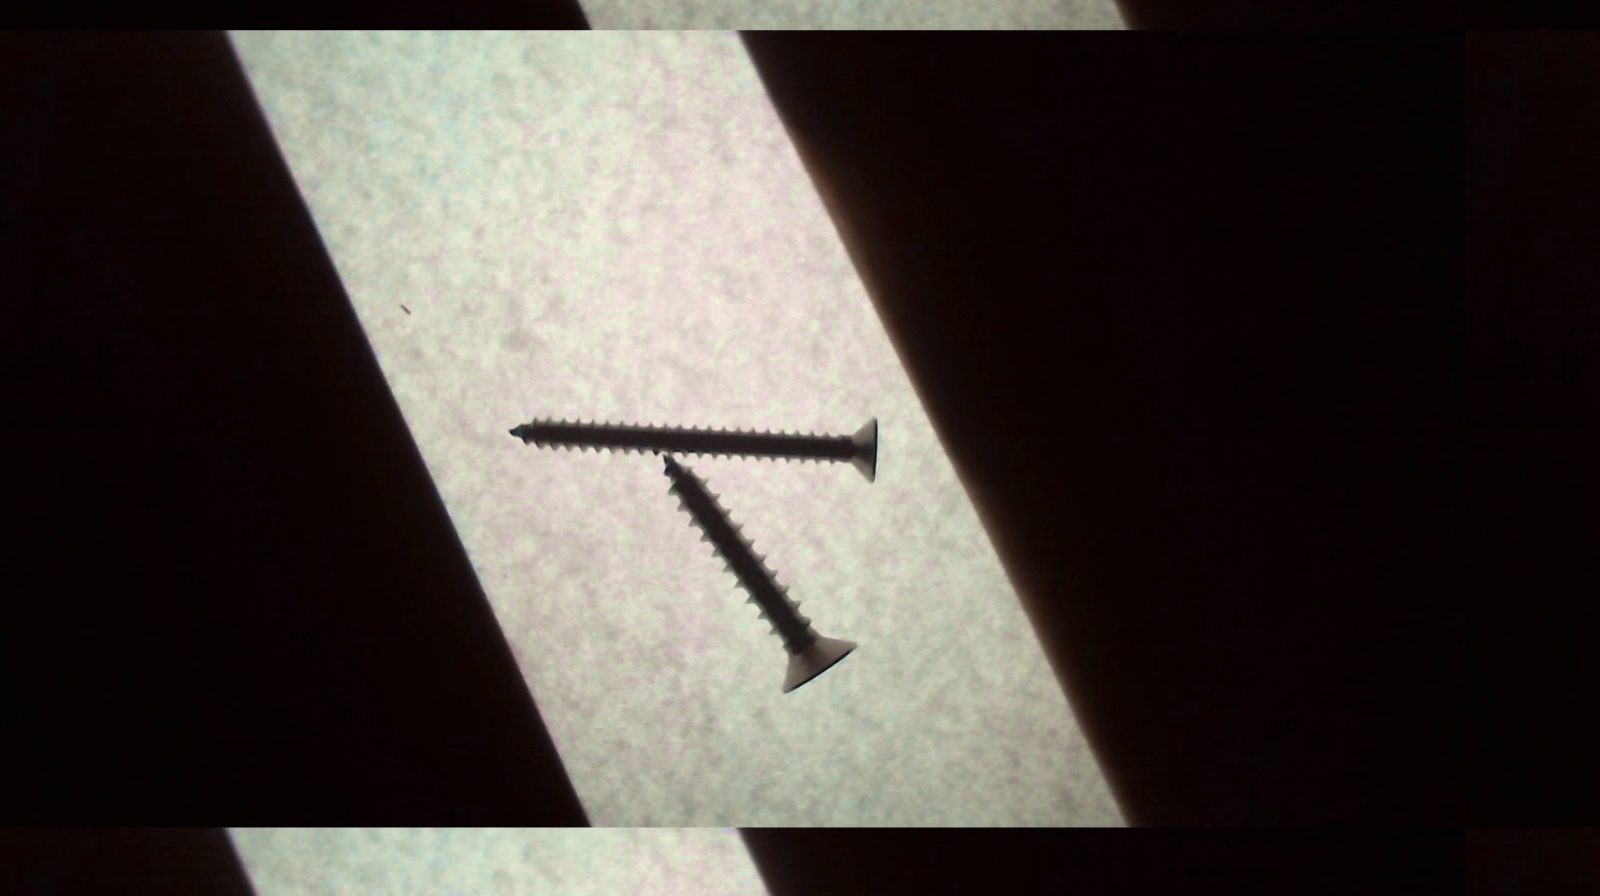S001: (659, 449, 862, 694)
S002: (509, 409, 895, 486)
